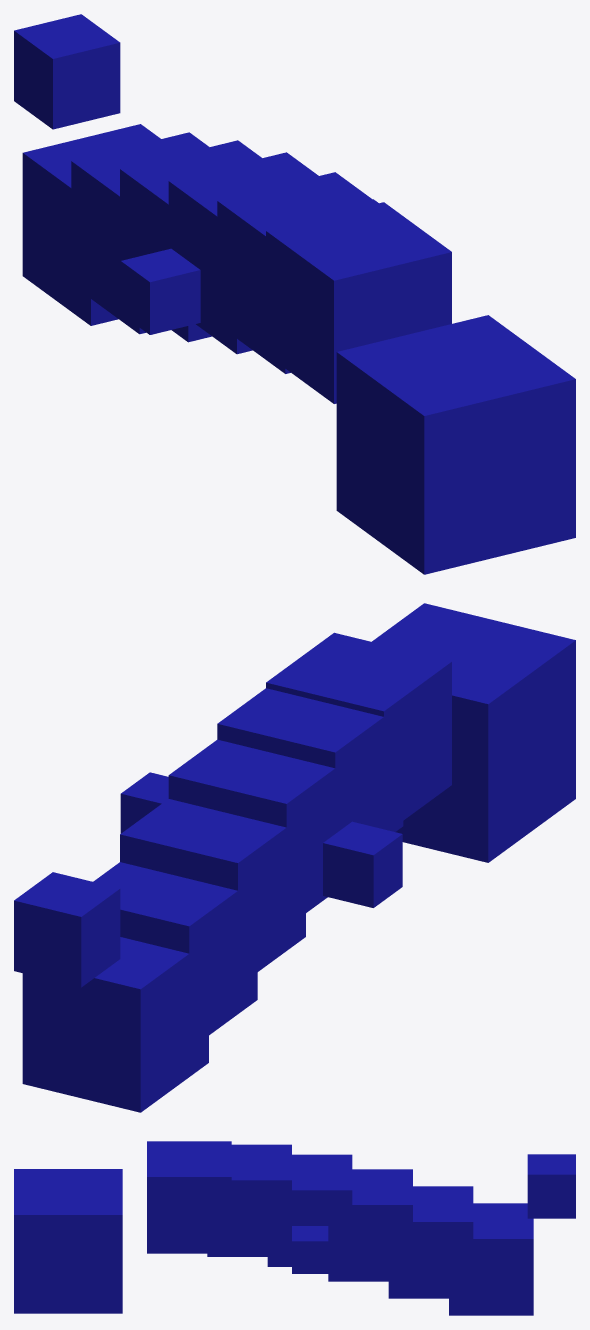
File: leviathan_ocean.obj
The picture shows the model from 3 angles, top to bottom: view 1: azimuth 30°, elevation 25°; view 2: azimuth 150°, elevation 25°; view 3: azimuth 270°, elevation 25°; orthographic projection. The views are drawn at different scales.
Parts seen in each view (by area): view 1: leviathan_ocean; view 2: leviathan_ocean; view 3: leviathan_ocean.
Boxes of the visible parts, bbox=[...] form: leviathan_ocean: bbox=[14, 14, 575, 574]; leviathan_ocean: bbox=[14, 603, 575, 1112]; leviathan_ocean: bbox=[14, 1141, 575, 1315].
Size of the model in its own units: 1.5 by 1.27 by 4.65.
